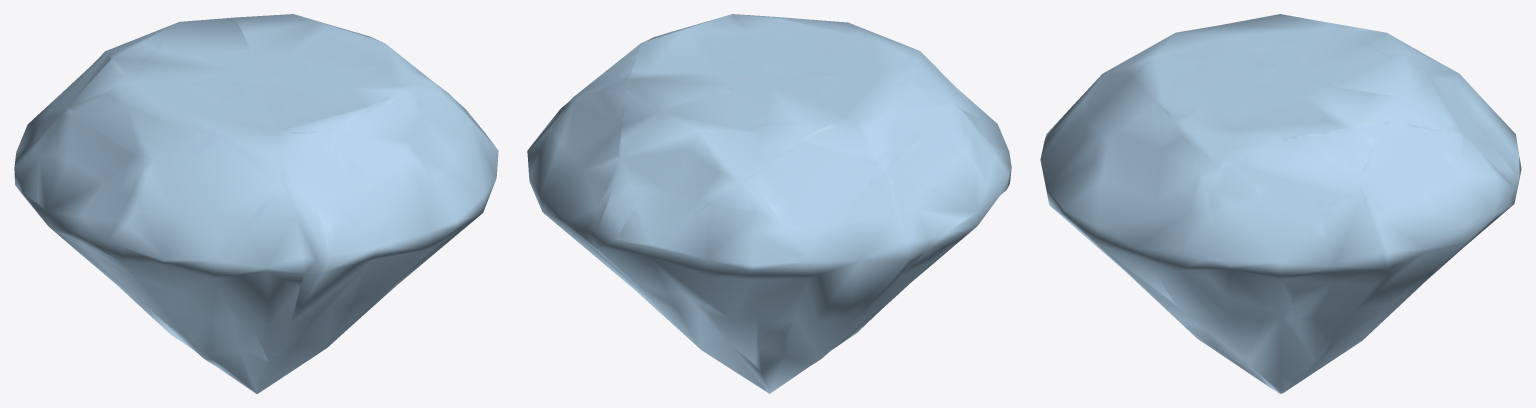
Rendered from hero-gem.glb.
The picture shows the model from 3 angles, left to right: view 1: azimuth 30°, elevation 25°; view 2: azimuth 150°, elevation 25°; view 3: azimuth 270°, elevation 25°; orthographic projection.
Parts seen in each view (by area): view 1: tripo_node_09f0a274-7a5c-4a3b-a5cb-a8aae6d502b6; view 2: tripo_node_09f0a274-7a5c-4a3b-a5cb-a8aae6d502b6; view 3: tripo_node_09f0a274-7a5c-4a3b-a5cb-a8aae6d502b6.
Part boxes in pixels (x1,y1,x2,y2): tripo_node_09f0a274-7a5c-4a3b-a5cb-a8aae6d502b6: [14, 14, 498, 393]; tripo_node_09f0a274-7a5c-4a3b-a5cb-a8aae6d502b6: [527, 14, 1011, 393]; tripo_node_09f0a274-7a5c-4a3b-a5cb-a8aae6d502b6: [1040, 14, 1521, 393].
Bounding box in the file's own units: 0.9768 × 0.7123 × 0.9774.
Materials: 1 (1 with a texture image).
